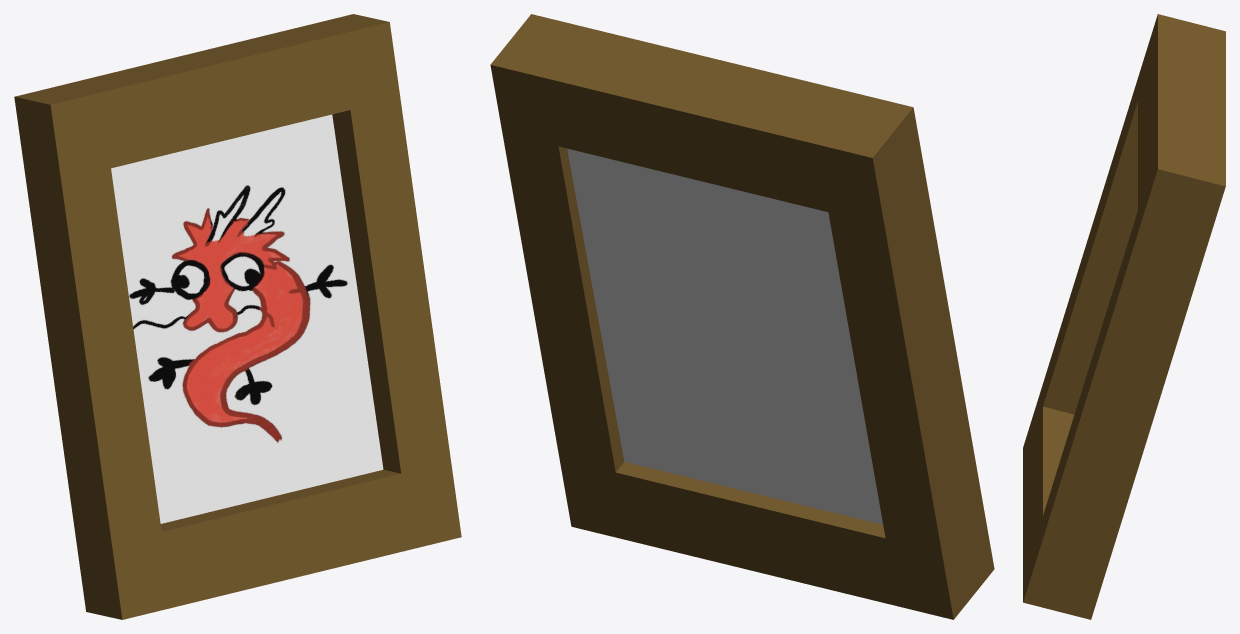
Rendered from Foto2.glb.
3 renders of one model, left to right at view 1: azimuth 30°, elevation 25°; view 2: azimuth 150°, elevation 25°; view 3: azimuth 270°, elevation 25°, orthographic. The views are drawn at different scales.
Parts seen in each view (by area): view 1: Cube.020, Cube.021; view 2: Cube.020, Cube.021; view 3: Cube.020.
Part boxes in pixels (box(x1,y1,x2,y2)): Cube.020: box(14, 14, 461, 619); Cube.021: box(111, 114, 383, 523); Cube.020: box(490, 14, 994, 619); Cube.021: box(567, 148, 882, 524); Cube.020: box(1023, 14, 1225, 619).
Size of the model in its own units: 0.1101 by 0.1492 by 0.0608.
Materials: 2 (1 with a texture image).
